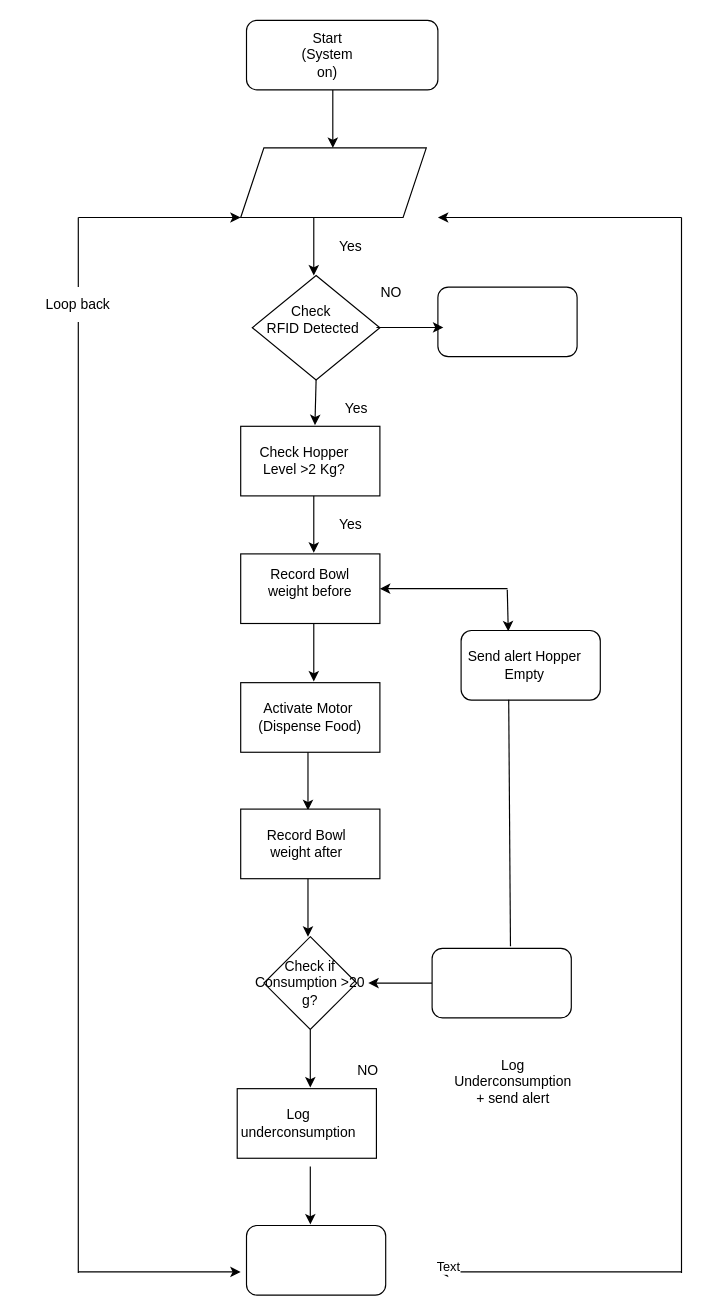
Some shapes in this 711 by 1315 pixel diagram are drawn without their labels. Each missing label, with the box of its shape:
Check Current Time vs Feeding Schedule: (240, 147, 426, 217)
End Loop back to next feeding event: (245, 1224, 386, 1295)
Log "Fed at time": (431, 947, 571, 1018)
wait of tag: (437, 286, 577, 357)
